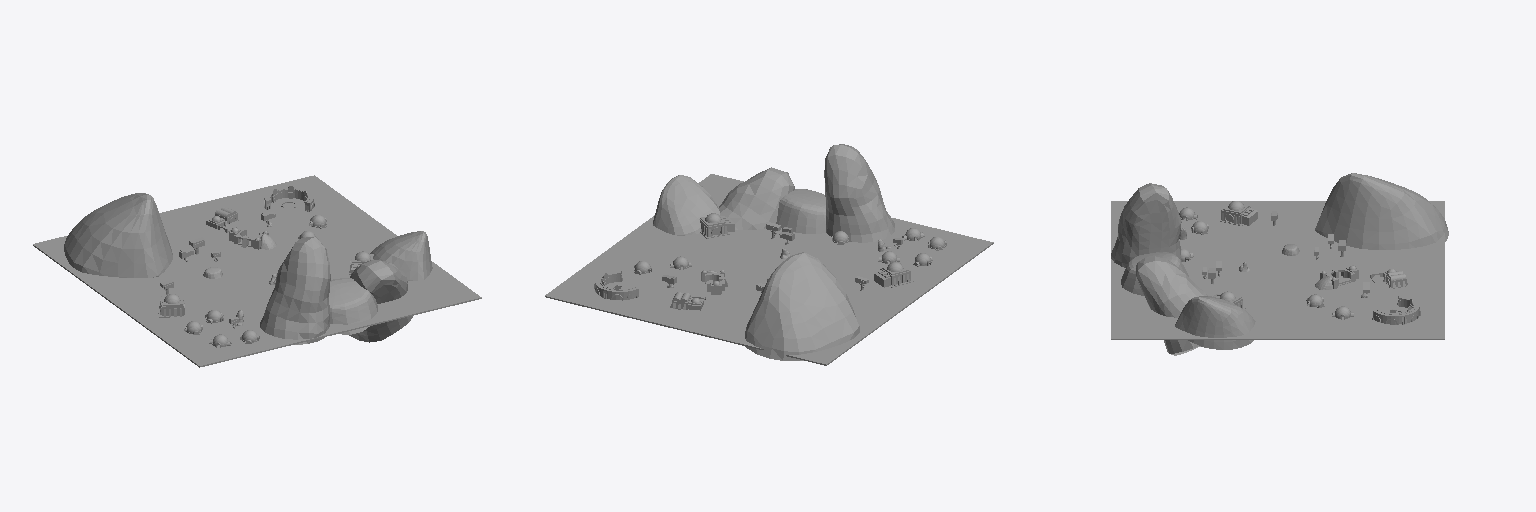
Rendered from all.obj.
3 renders of one model, left to right at view 1: azimuth 30°, elevation 25°; view 2: azimuth 150°, elevation 25°; view 3: azimuth 270°, elevation 25°, orthographic.
Parts seen in each view (by area): view 1: terrain_monolith; view 2: terrain_monolith; view 3: terrain_monolith.
Part boxes in pixels (x1,y1,x2,y2): terrain_monolith: (33,175,481,367); terrain_monolith: (545,144,993,365); terrain_monolith: (1111,173,1448,355).
Bounding box in the file's own units: 1141 × 515 × 1185.